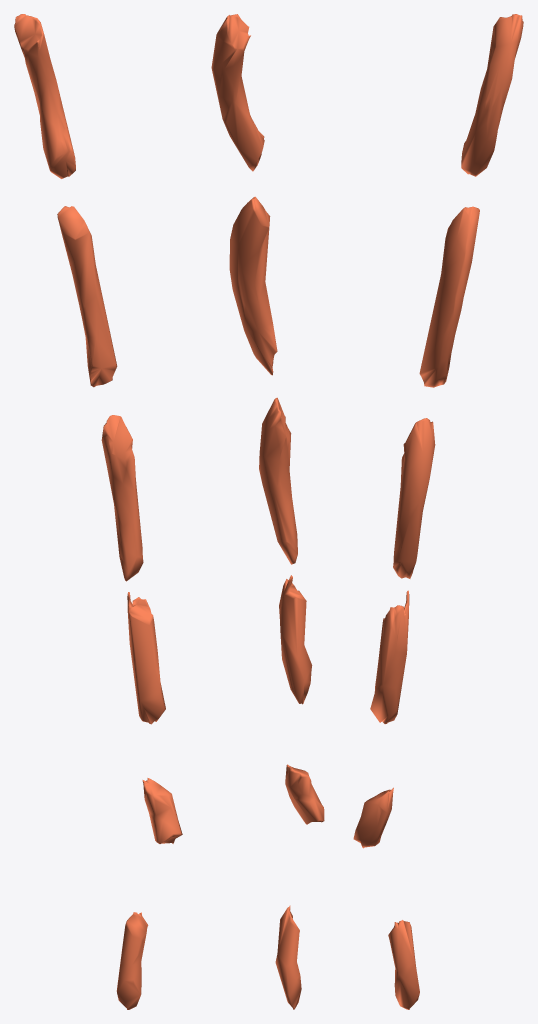
Rendered from Interspinales_lumborum_left.glb.
3 views of the same model, side by side, from view 1: azimuth 90°, elevation 25°; view 2: azimuth 150°, elevation 25°; view 3: azimuth 270°, elevation 25° (orthographic). The views are drawn at different scales.
Visible parts, largest first — view 1: Interspinales_lumborum_muscles.l_Generated_Mesh_From_X3D.446; view 2: Interspinales_lumborum_muscles.l_Generated_Mesh_From_X3D.446; view 3: Interspinales_lumborum_muscles.l_Generated_Mesh_From_X3D.446.
Part boxes in pixels (x1,y1,x2,y2): Interspinales_lumborum_muscles.l_Generated_Mesh_From_X3D.446: (14,14,182,1009); Interspinales_lumborum_muscles.l_Generated_Mesh_From_X3D.446: (211,14,324,1009); Interspinales_lumborum_muscles.l_Generated_Mesh_From_X3D.446: (353,14,523,1009).
Size of the model in its own units: 0.00873 by 0.1604 by 0.0247.
